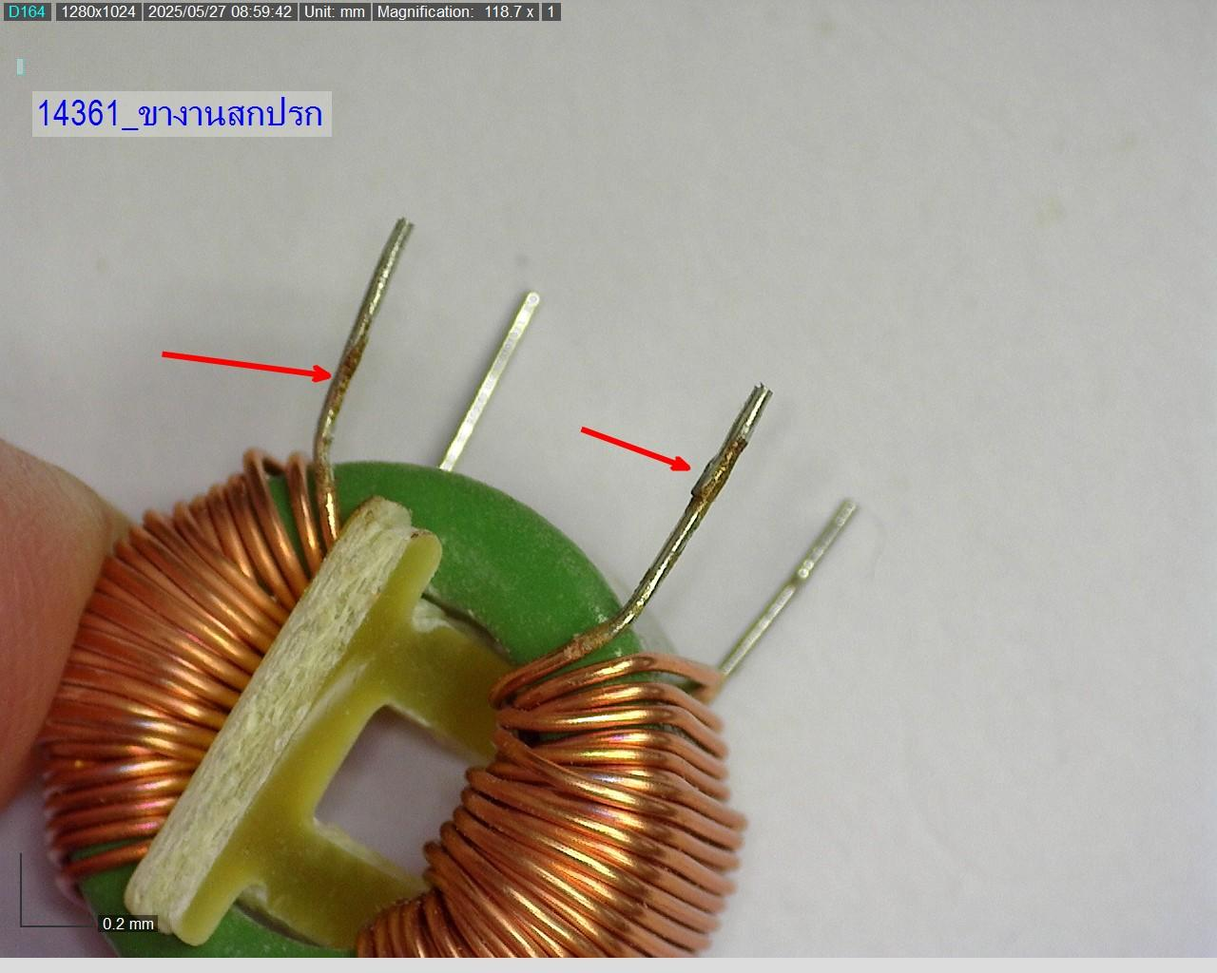varnish: (666, 366, 776, 534), (335, 203, 415, 416)
